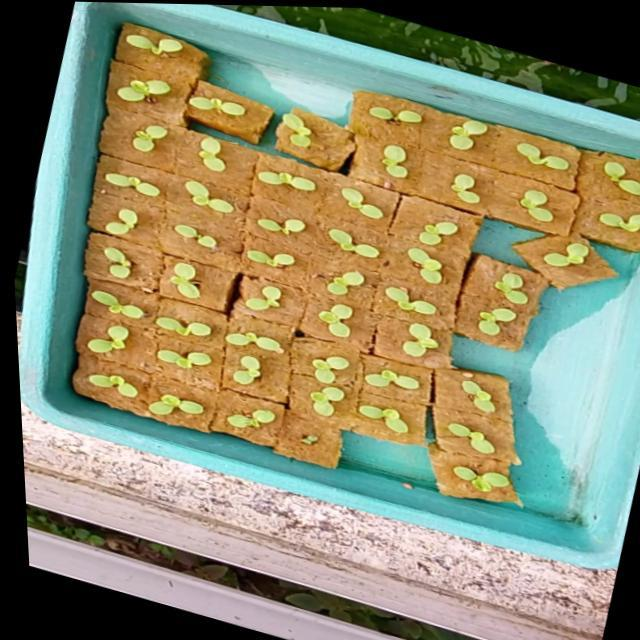Baby: (499, 232, 563, 275), (562, 156, 629, 196), (82, 113, 153, 149), (486, 140, 549, 175), (125, 217, 191, 250), (374, 244, 429, 282), (40, 282, 104, 314), (327, 359, 383, 395), (201, 272, 250, 310), (352, 278, 406, 312), (43, 240, 89, 279), (547, 192, 606, 222), (147, 173, 197, 207), (417, 464, 475, 491), (463, 264, 504, 302), (413, 420, 460, 452), (294, 224, 344, 254), (183, 328, 244, 351), (65, 165, 121, 189), (365, 319, 403, 354), (321, 407, 370, 434), (41, 371, 93, 396), (125, 257, 159, 295), (102, 392, 159, 414), (112, 312, 170, 333), (218, 209, 273, 231), (418, 116, 457, 147), (40, 321, 83, 349), (280, 299, 315, 333), (426, 377, 460, 411), (386, 214, 427, 242), (273, 352, 311, 381), (486, 186, 519, 219), (271, 381, 305, 413), (183, 407, 233, 427), (210, 244, 259, 264), (162, 130, 190, 165), (291, 267, 330, 292), (63, 203, 99, 230), (445, 309, 483, 334), (310, 183, 341, 212), (419, 169, 448, 200), (348, 140, 375, 173), (190, 353, 219, 383), (114, 346, 157, 366)
